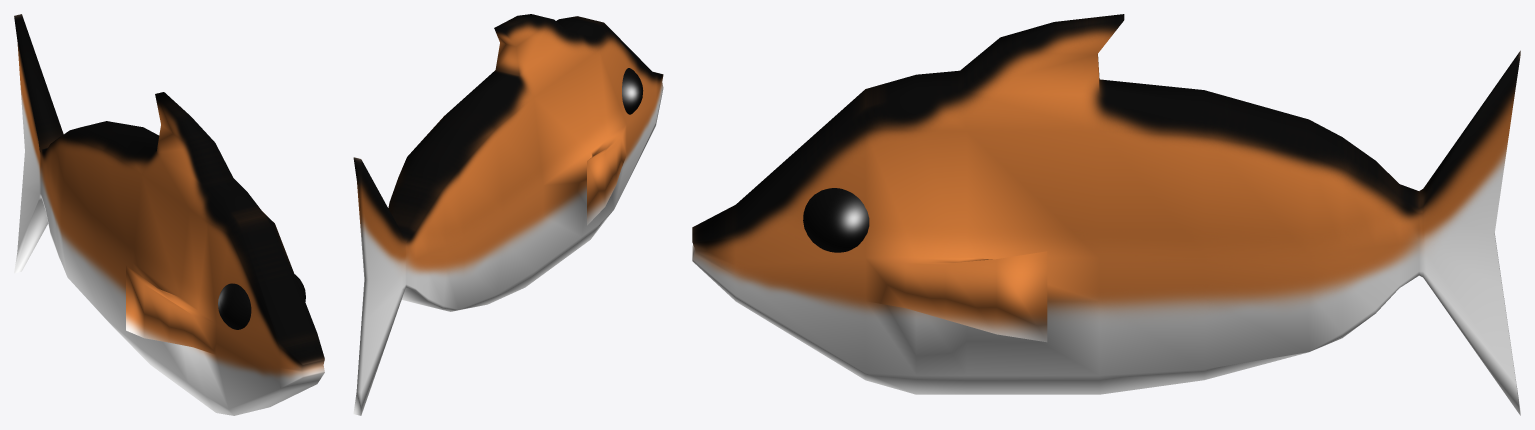
Rendered from Fish.fbx.
The picture shows the model from 3 angles, left to right: view 1: azimuth 30°, elevation 25°; view 2: azimuth 150°, elevation 25°; view 3: azimuth 270°, elevation 25°; orthographic projection. The views are drawn at different scales.
Parts seen in each view (by area): view 1: Sphere; view 2: Sphere; view 3: Sphere.
Part boxes in pixels (bbox=[...]): Sphere: bbox=[14, 14, 324, 415]; Sphere: bbox=[353, 14, 663, 415]; Sphere: bbox=[692, 14, 1520, 415].
Bounding box in the file's own units: 504 × 1115 × 2112.
